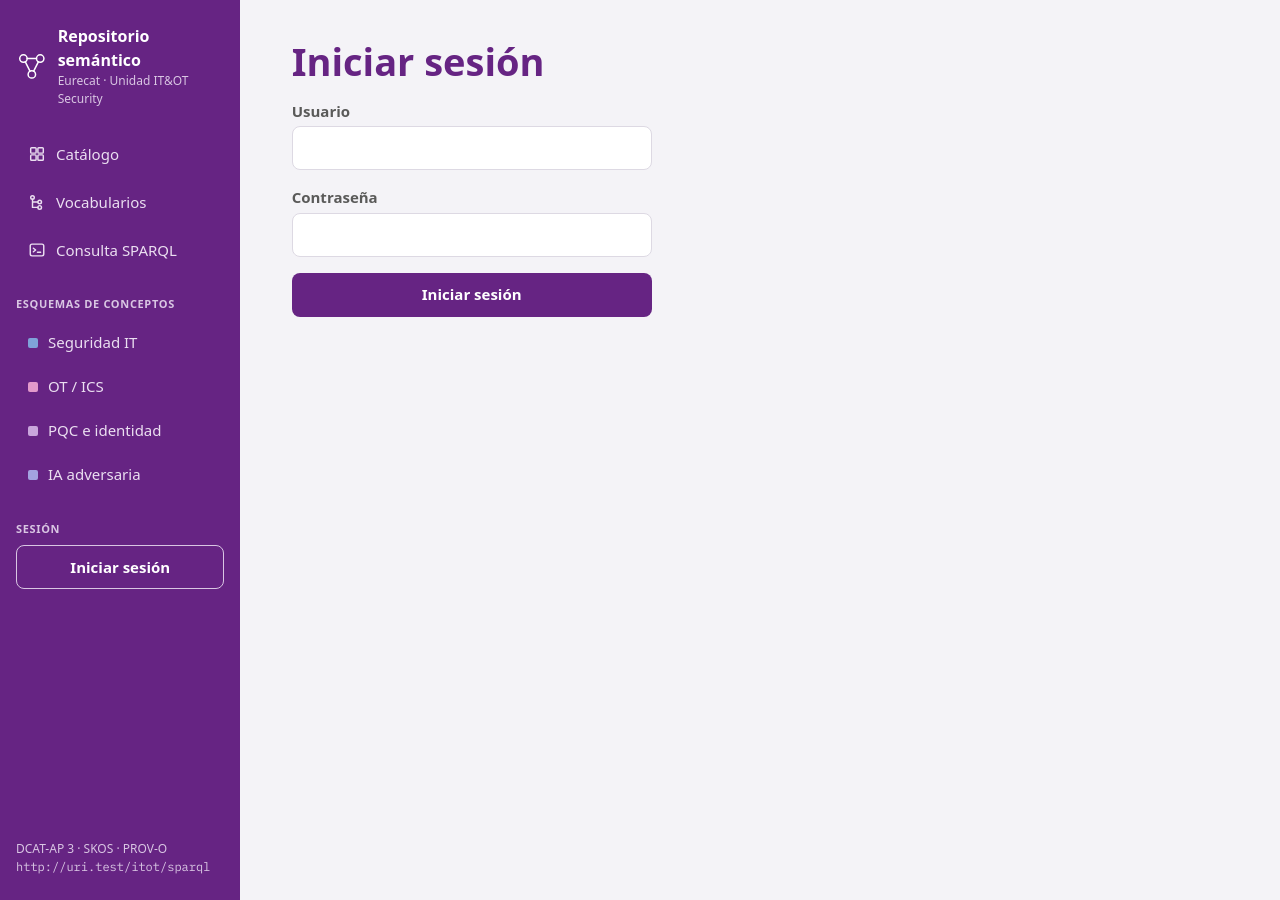
Scenario: Login › inicia sesión, envía el formulario OAuth2 y muestra usuario y rol
The width and height of the screenshot is (1280, 900).
In the field labelled "Usuario": (472, 148) [292, 126, 652, 170], type "usuario-prueba"
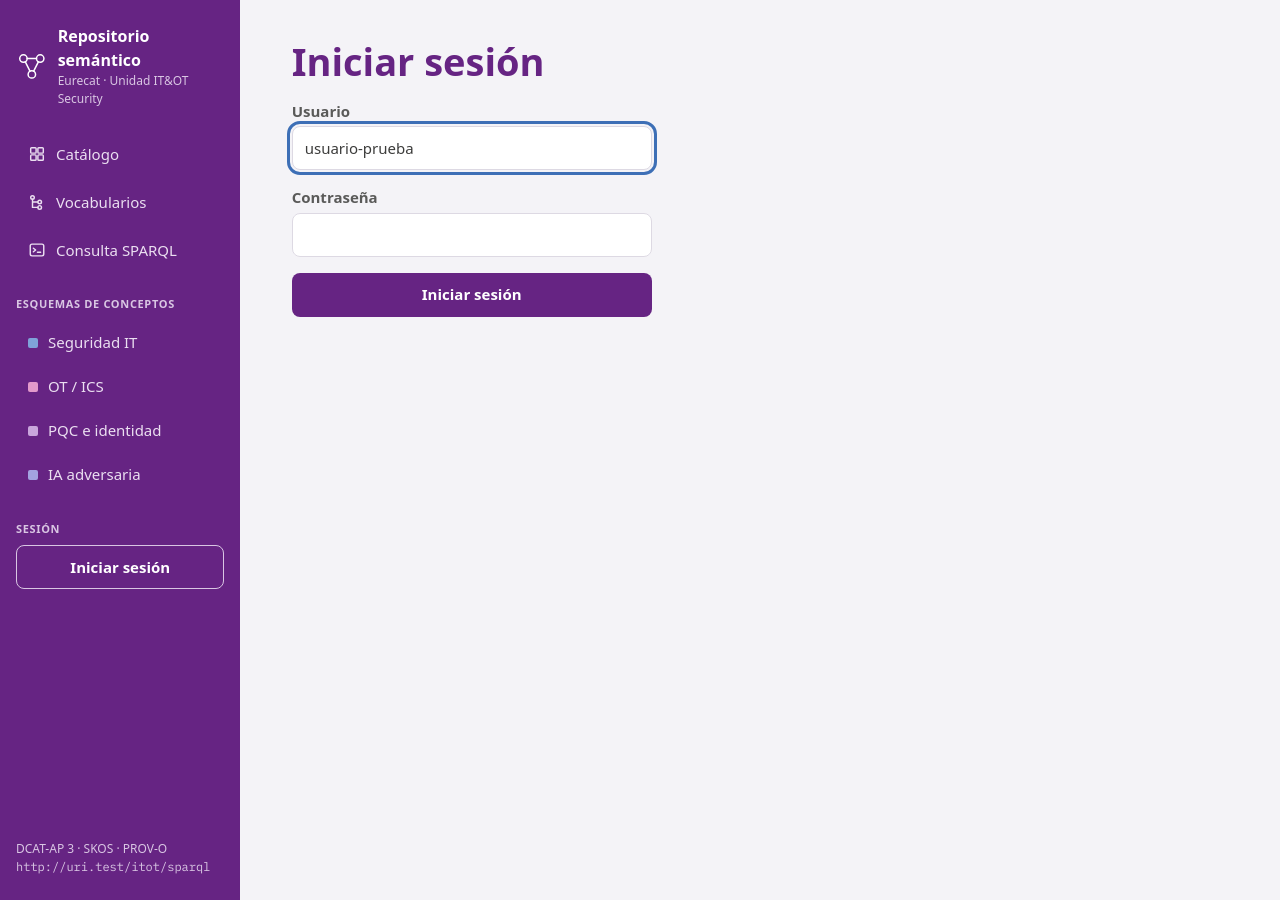
In the password field labelled "Contraseña": (472, 235) [292, 213, 652, 257], type "clave-prueba"
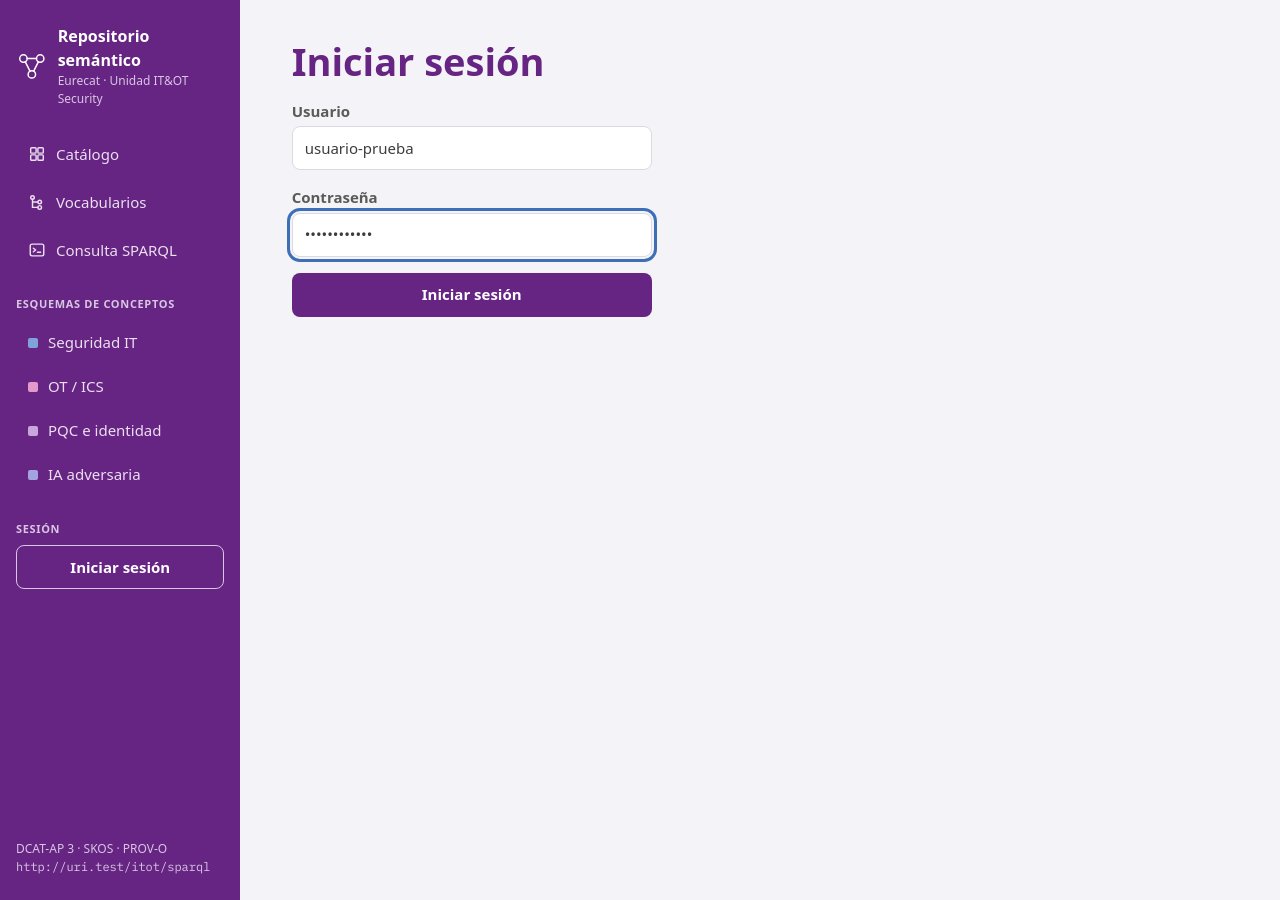
Click the button "Iniciar sesión": (472, 295) [292, 273, 652, 317]
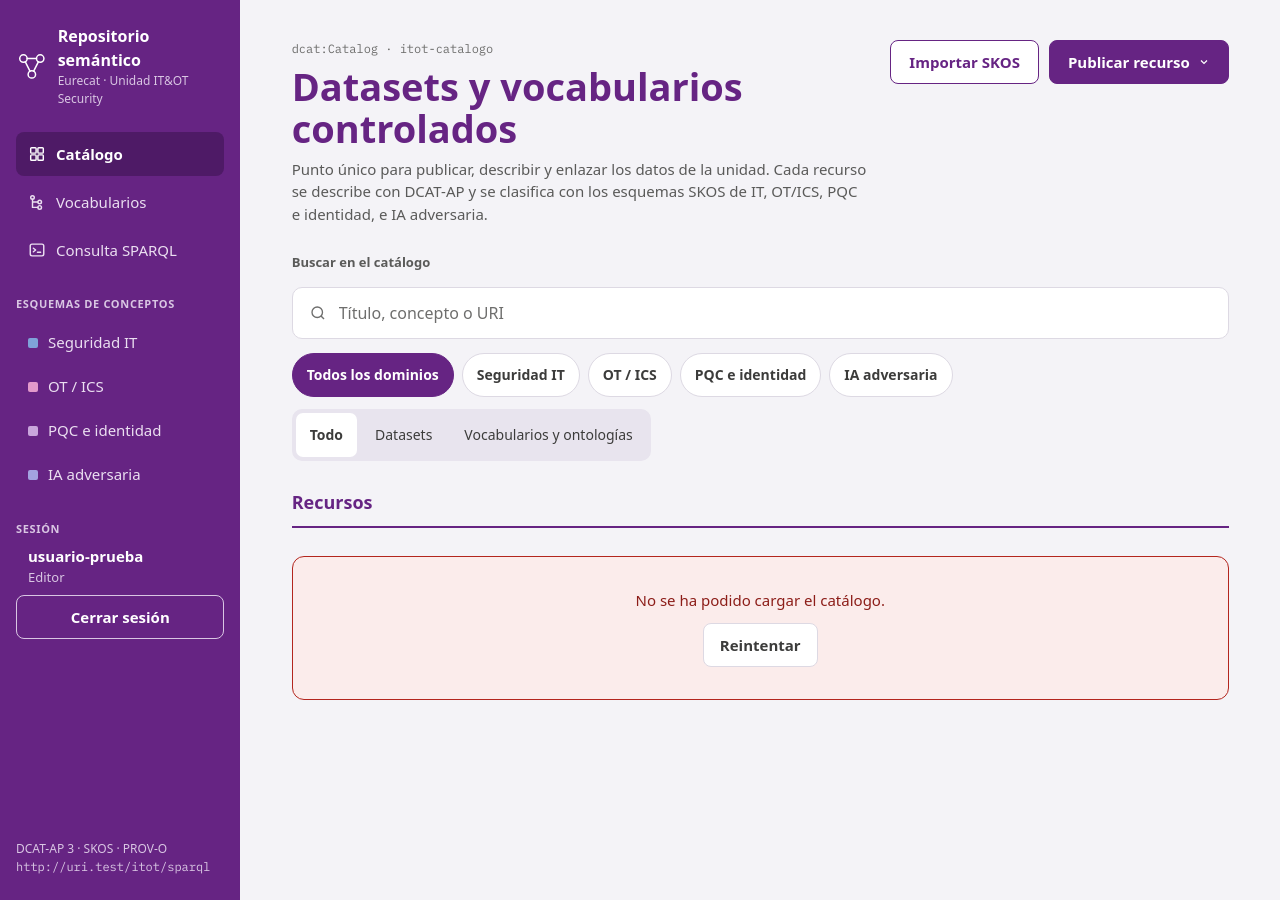
Check: the heading "Datasets y vocabularios controlados" is shown, box [292, 60, 743, 154]
Check: the text "usuario-prueba" is shown, box [28, 546, 143, 566]
Check: the text "Editor" is shown, box [28, 568, 64, 586]
